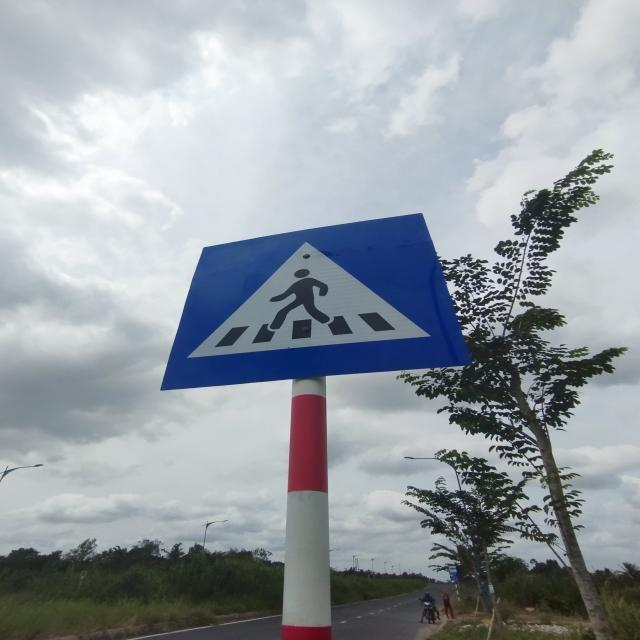Giao_Nhau_Duong_Uu_Tien: (162, 211, 470, 391)
